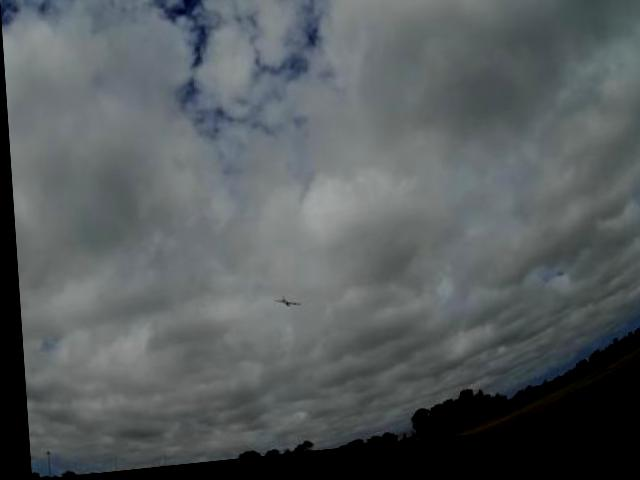uav: (264, 292, 301, 321)
